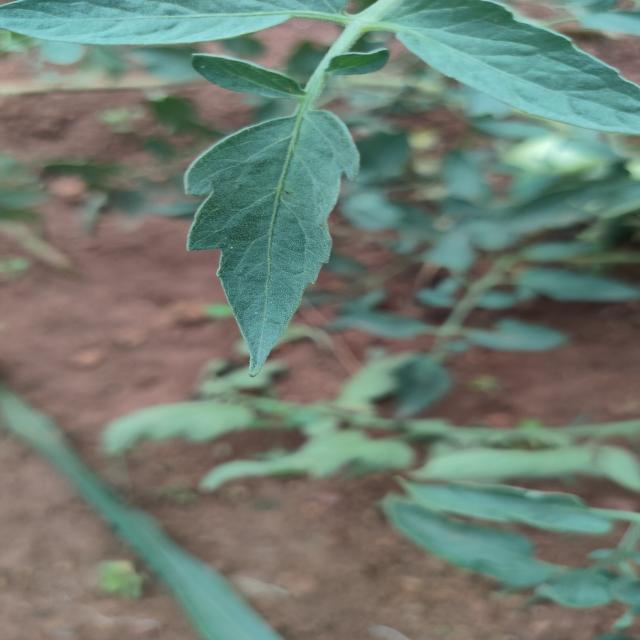tomato_healthy: (179, 110, 357, 376)
